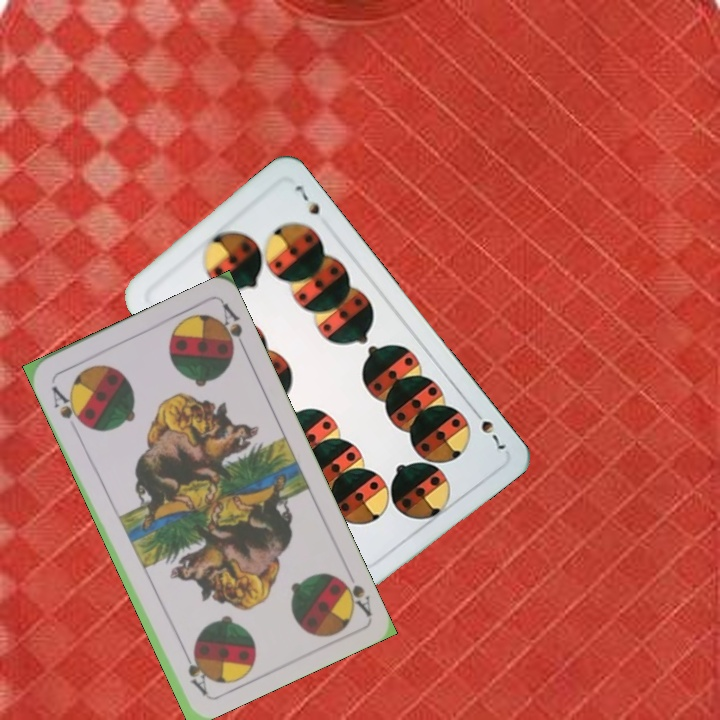S7: (467, 403, 508, 452)
SA: (332, 570, 374, 619), (48, 382, 87, 430)
